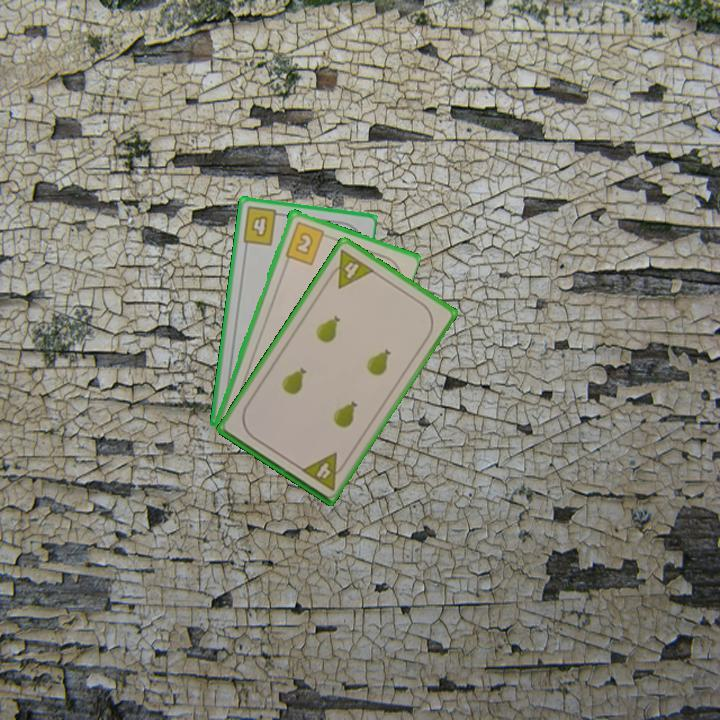2b: (281, 218, 332, 267)
4b: (239, 203, 286, 248)
4p: (323, 245, 377, 291), (297, 449, 350, 493)
